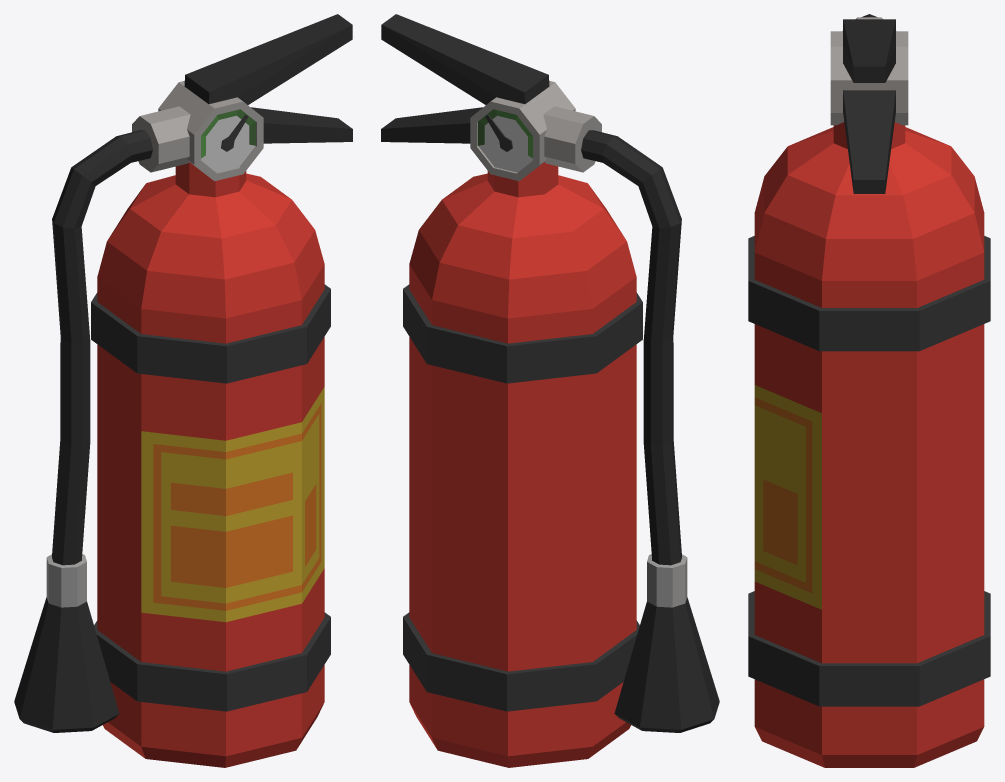
File: SM_Props_Interior_Shop_FireExtinguisher.fbx
3 renders of one model, left to right at view 1: azimuth 30°, elevation 25°; view 2: azimuth 150°, elevation 25°; view 3: azimuth 270°, elevation 25°, orthographic. The views are drawn at different scales.
Visible parts, largest first — view 1: SM_Props_Interior_Shop_FireExtinguisher; view 2: SM_Props_Interior_Shop_FireExtinguisher; view 3: SM_Props_Interior_Shop_FireExtinguisher.
Boxes of the visible parts, left/top/right/bottom form: SM_Props_Interior_Shop_FireExtinguisher: left=14, top=14, right=352, bottom=767; SM_Props_Interior_Shop_FireExtinguisher: left=381, top=14, right=719, bottom=767; SM_Props_Interior_Shop_FireExtinguisher: left=748, top=14, right=990, bottom=767.
Size of the model in its own units: 22.18 by 44.02 by 13.19.
